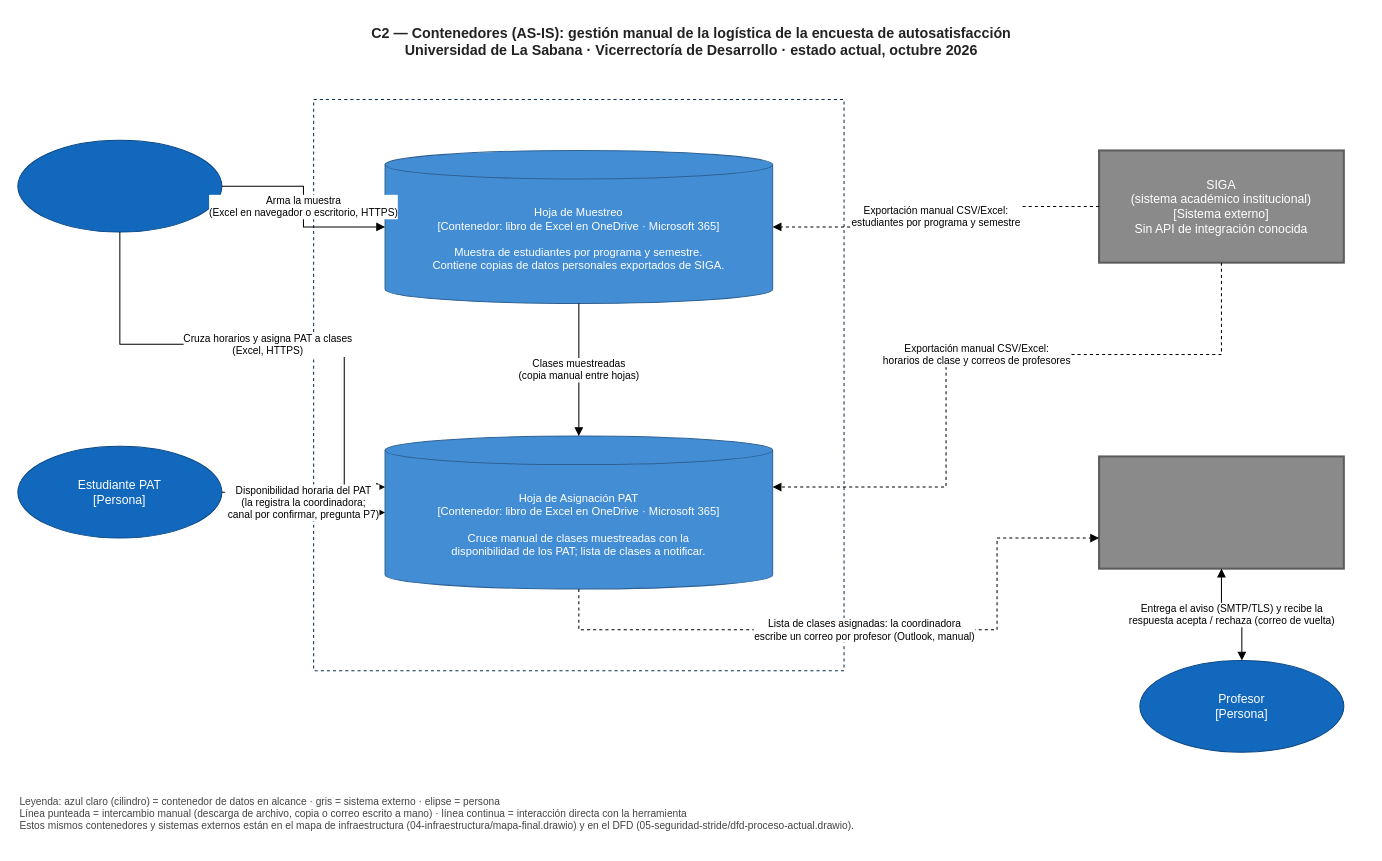
The diagram is 1382 pixels wide and 861 high, and some of its shapes have lost their labels. Each missing label, with the box of its shape:
Coordinadora de la encuesta (Vicerrectoría de Desarrollo) [Persona]: (17, 139, 222, 232)
Correo institucional (Exchange Online · Microsoft 365) [Sistema externo]: (1098, 455, 1344, 569)
Gestión manual de la logística de la encuesta [Sistema en alcance · AS-IS]: (313, 98, 844, 671)
